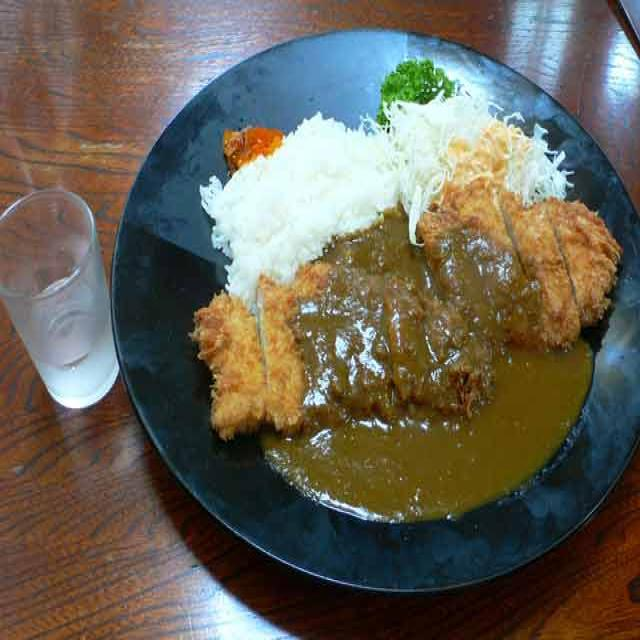猪肉菜式: (108, 5, 640, 624)
